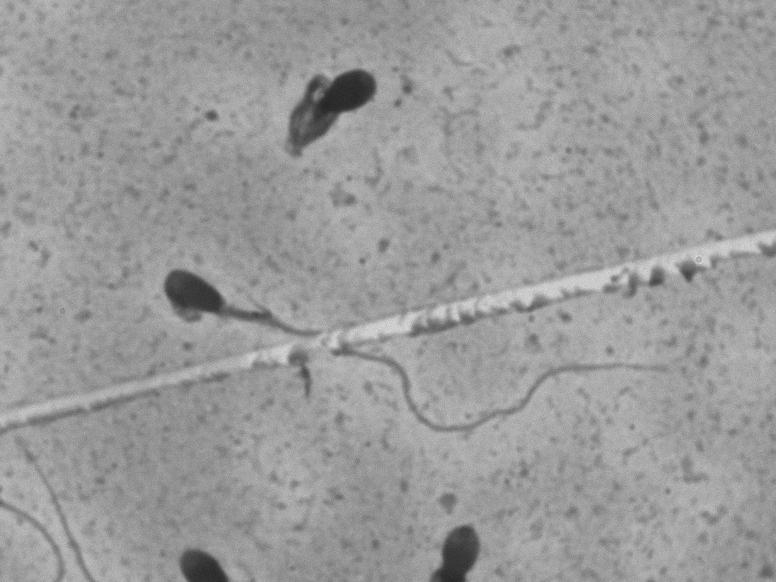Abnormal: (141, 219, 679, 431), (245, 39, 392, 175)
